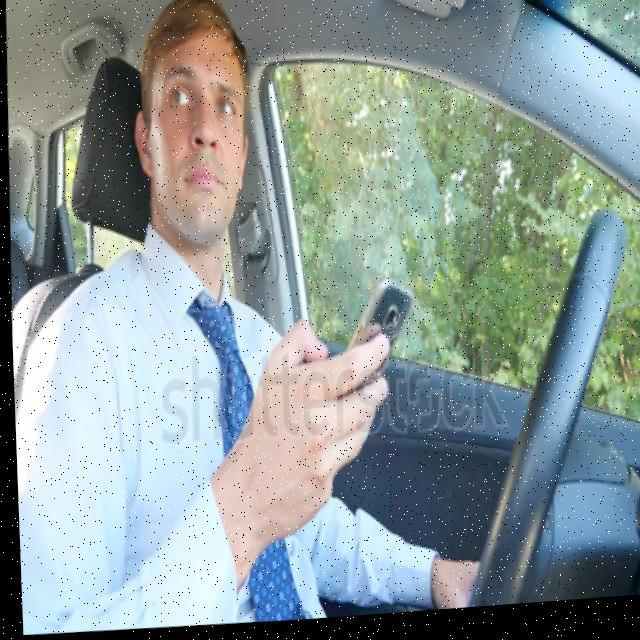PhoneCall: (341, 282, 412, 396)
